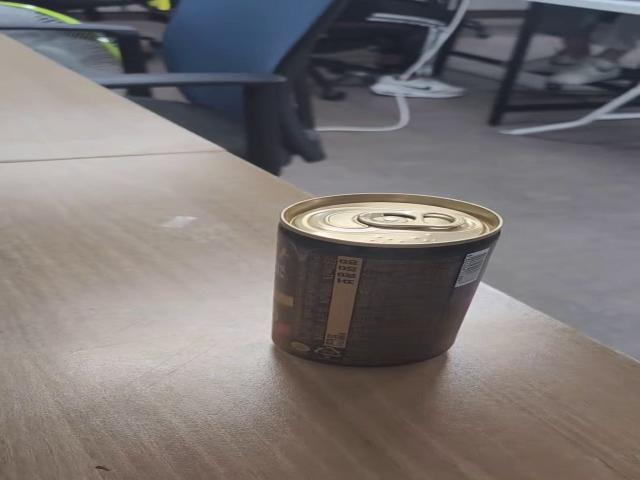Canned_drinks: (271, 195, 477, 365)
